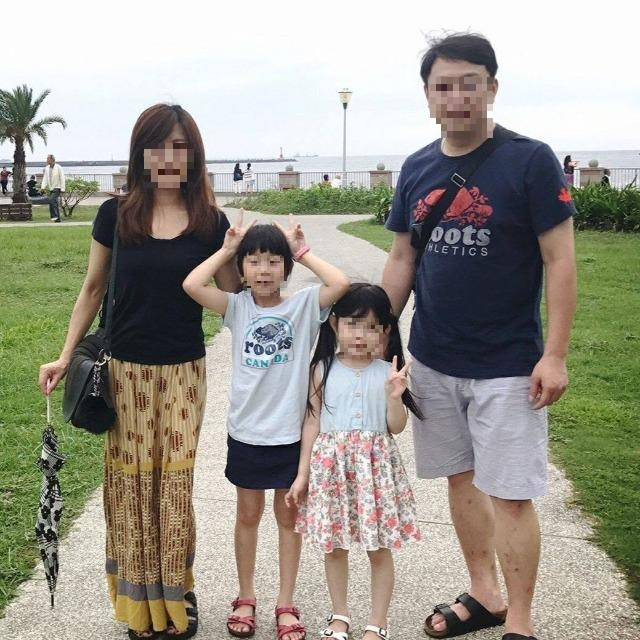NoHelmet: (414, 33, 501, 131), (130, 101, 209, 196)
NoVest: (398, 129, 577, 371)
